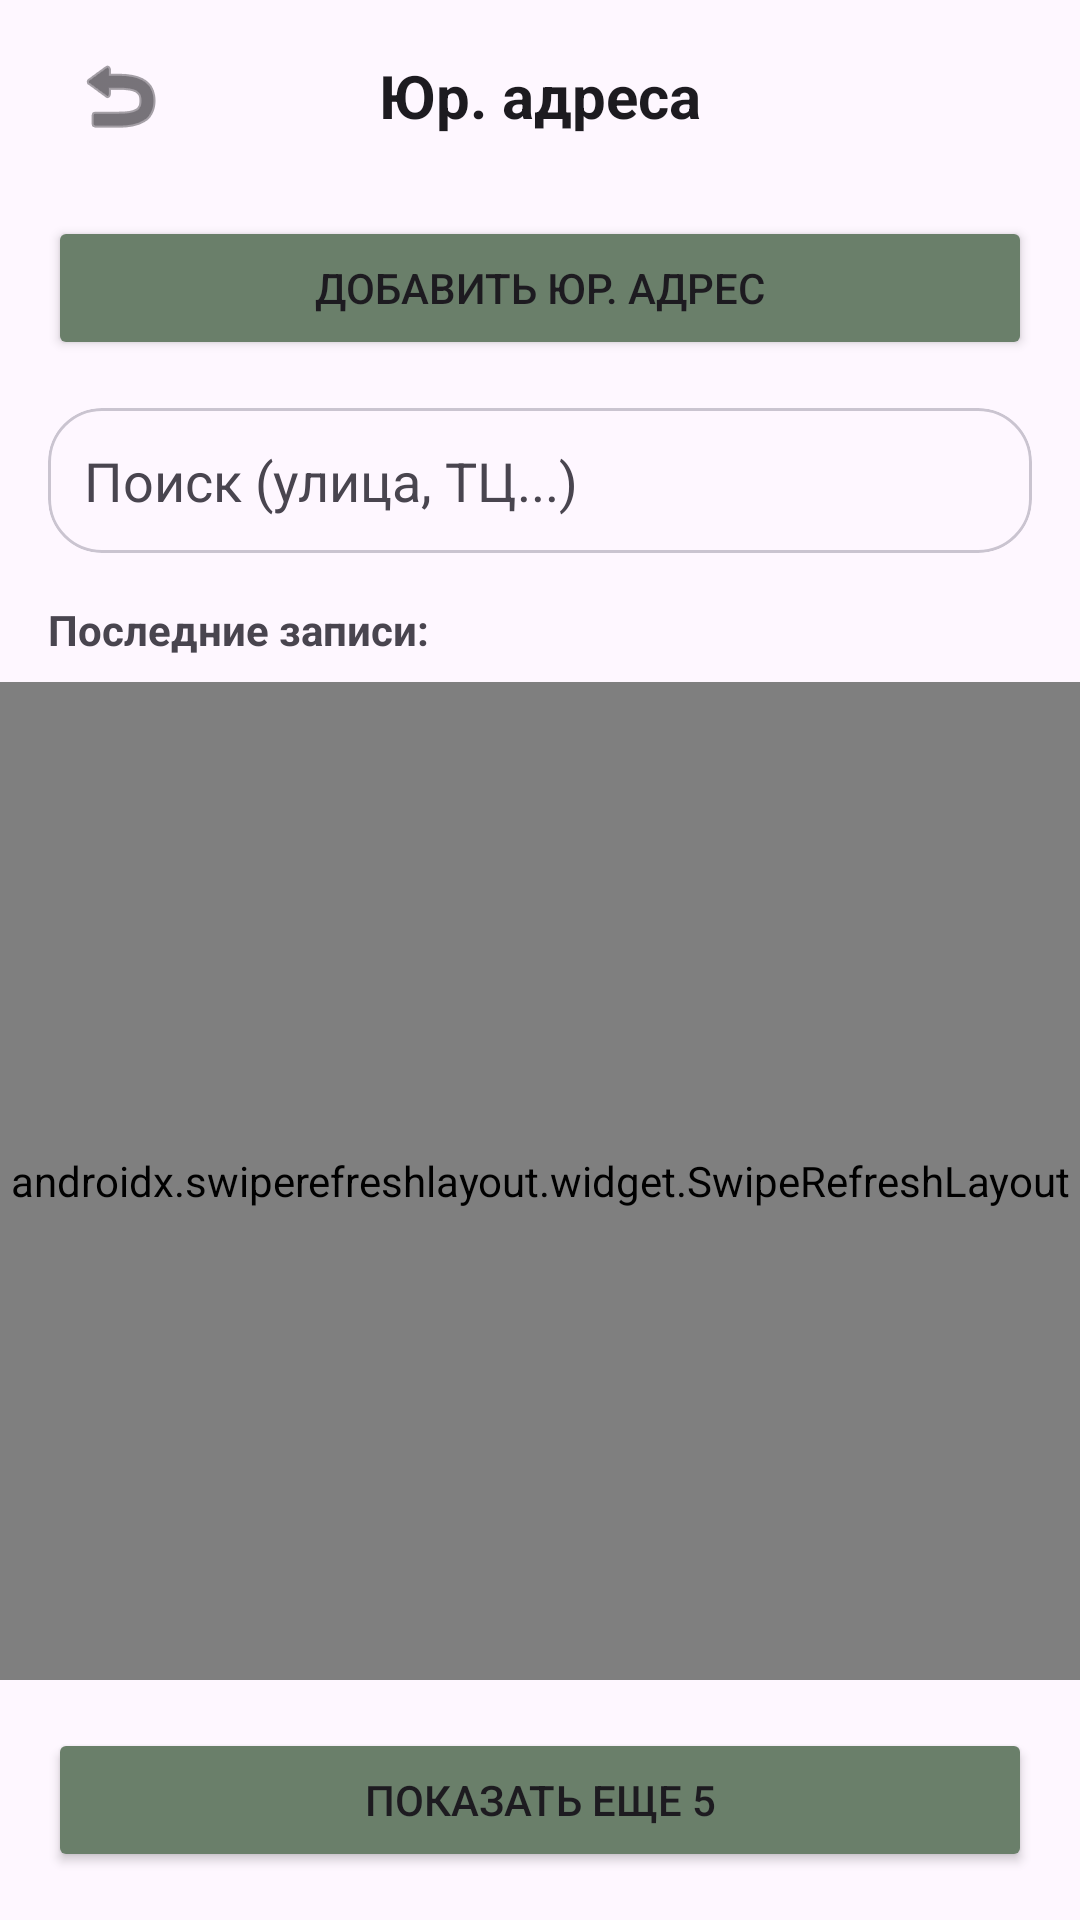

Named icons in this screenshot (1080px×1920px) and their centers, [x,y]:
revert: [121,96]
